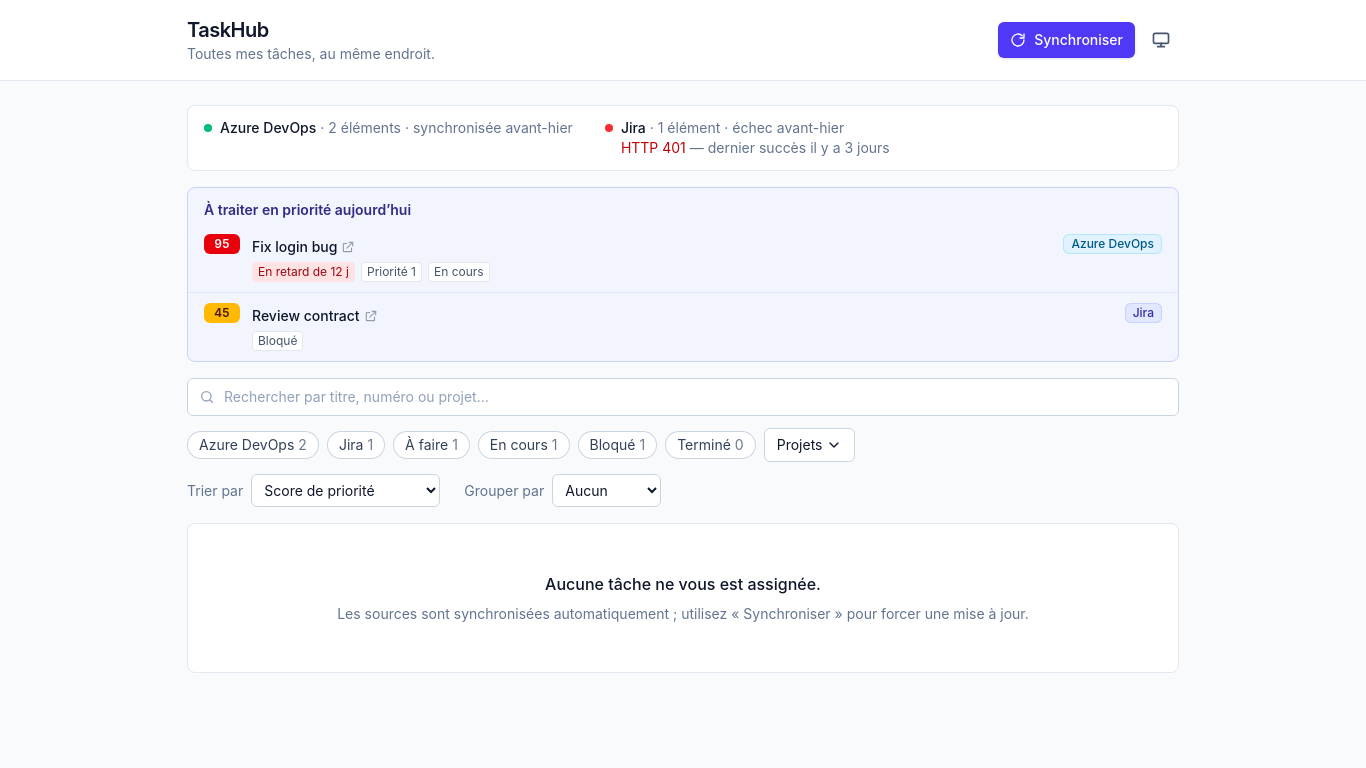
it: App › distingue liste vide et aucun résultat pour les filtres
The image size is (1366, 768).
Expected: the text "Aucune tâche ne vous est assignée." is shown, x1=545 y1=574 x2=821 y2=594
Step 1. Click the button "En cours1" → (524, 445), box x1=478 y1=431 x2=570 y2=459
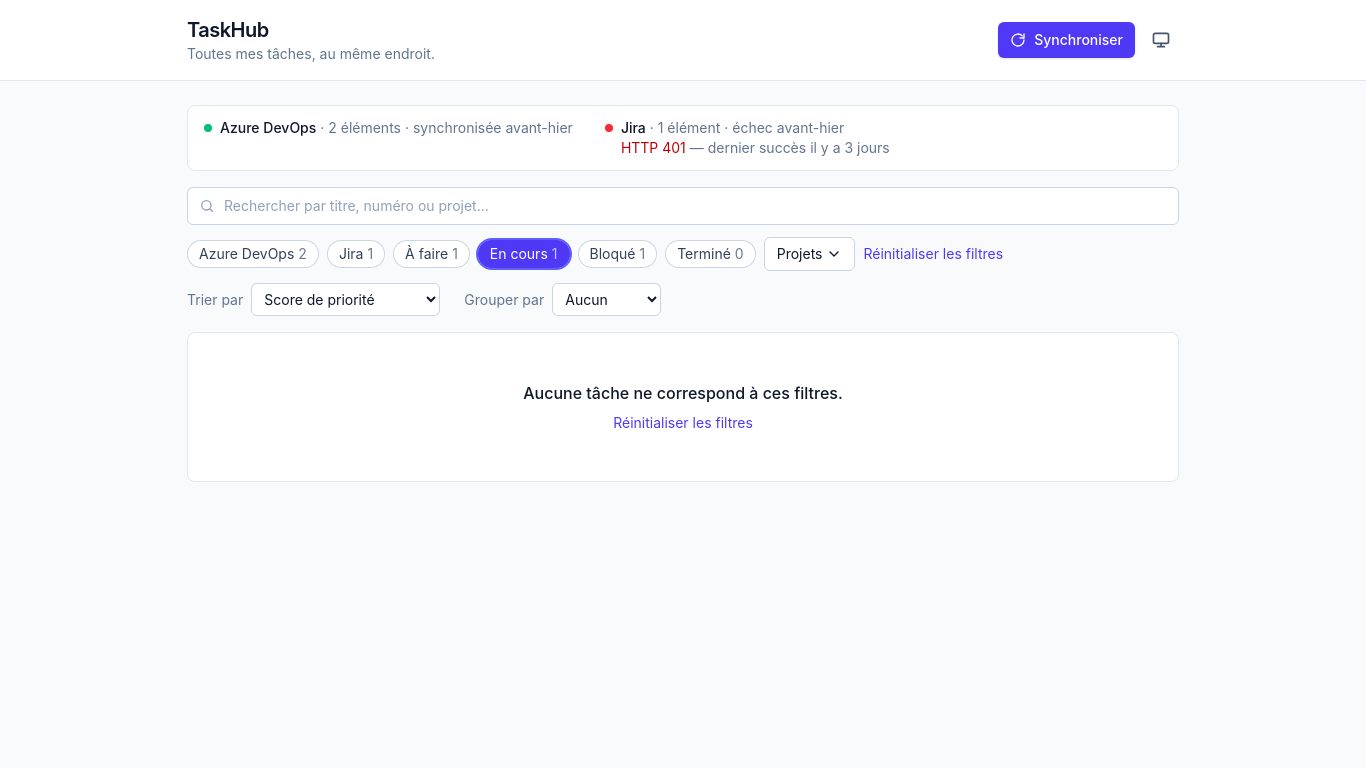
Expected: the text "Aucune tâche ne correspond à ces filtres." is shown, x1=523 y1=383 x2=843 y2=403
Step 2. Click the button "Réinitialiser les filtres" next to "Projets" → (933, 254), box x1=864 y1=244 x2=1003 y2=264
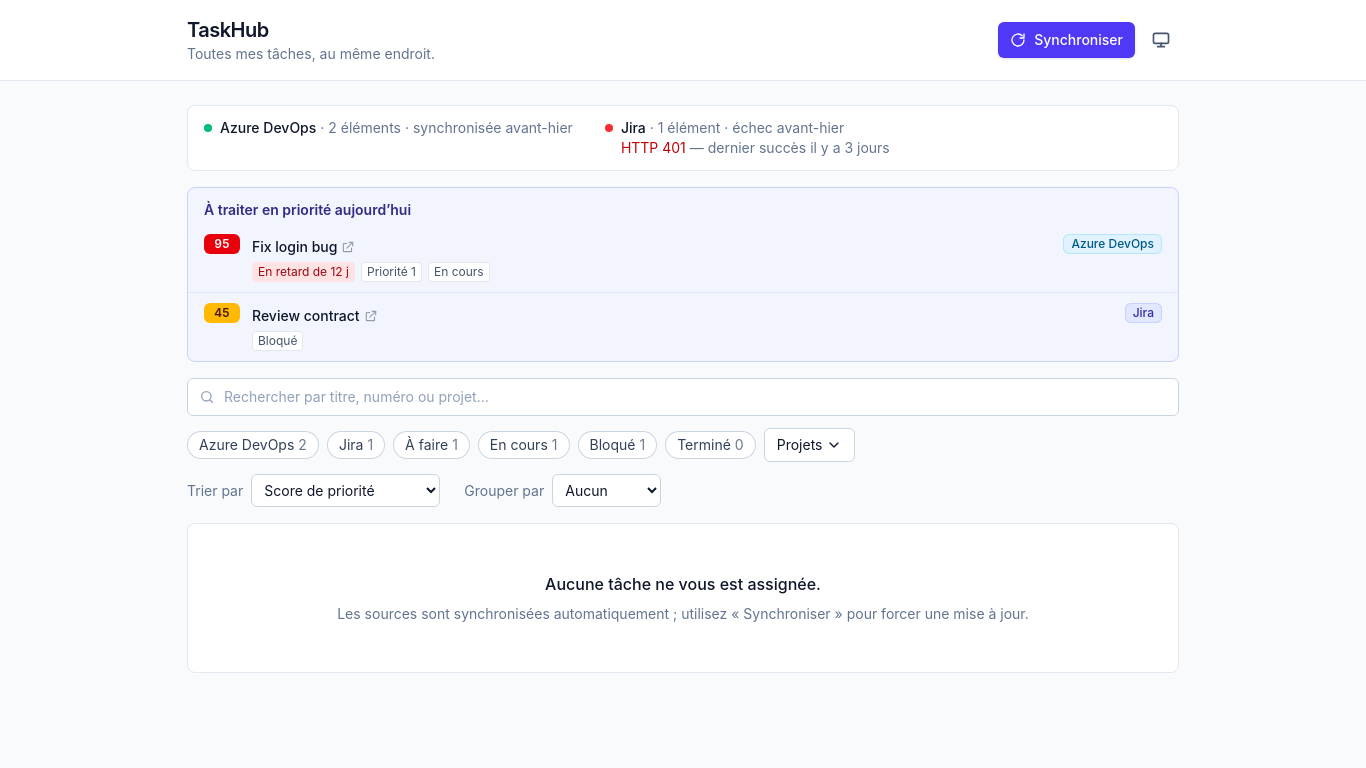
Expected: the text "Aucune tâche ne vous est assignée." is shown, x1=545 y1=574 x2=821 y2=594
